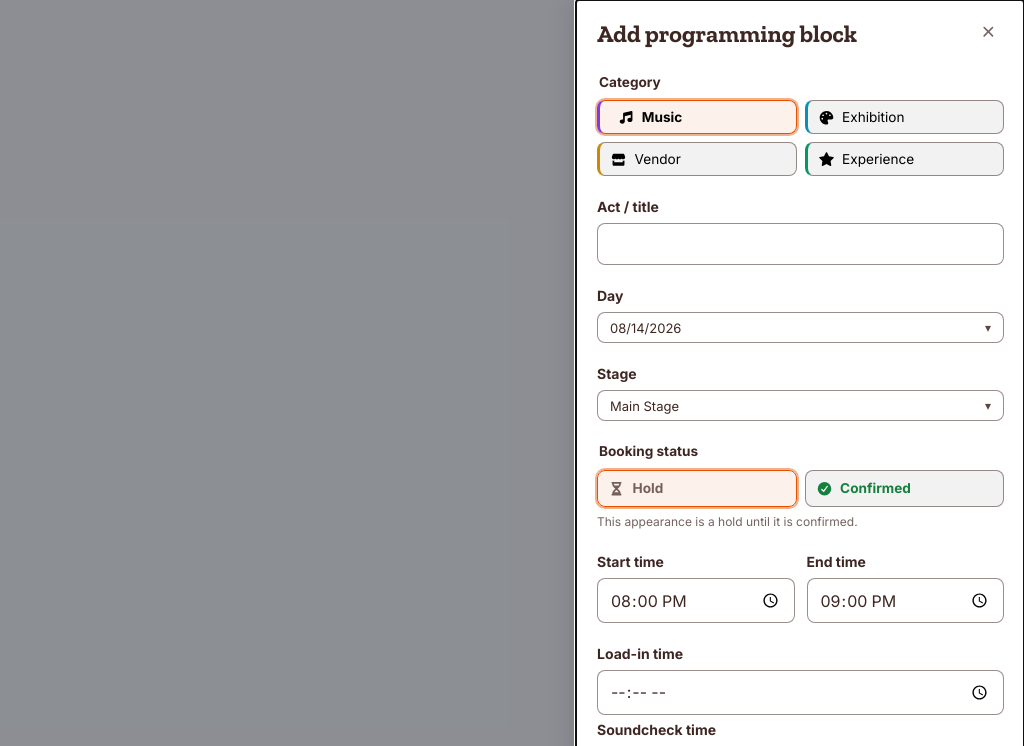
Test case: BlockEditorDrawer › reveals deal hint when settlement is enabled on a non-music block
This screenshot has width=1024, height=746.
Click the button "Vendor": (697,159) [597,142,796,176]
(page scrolled)
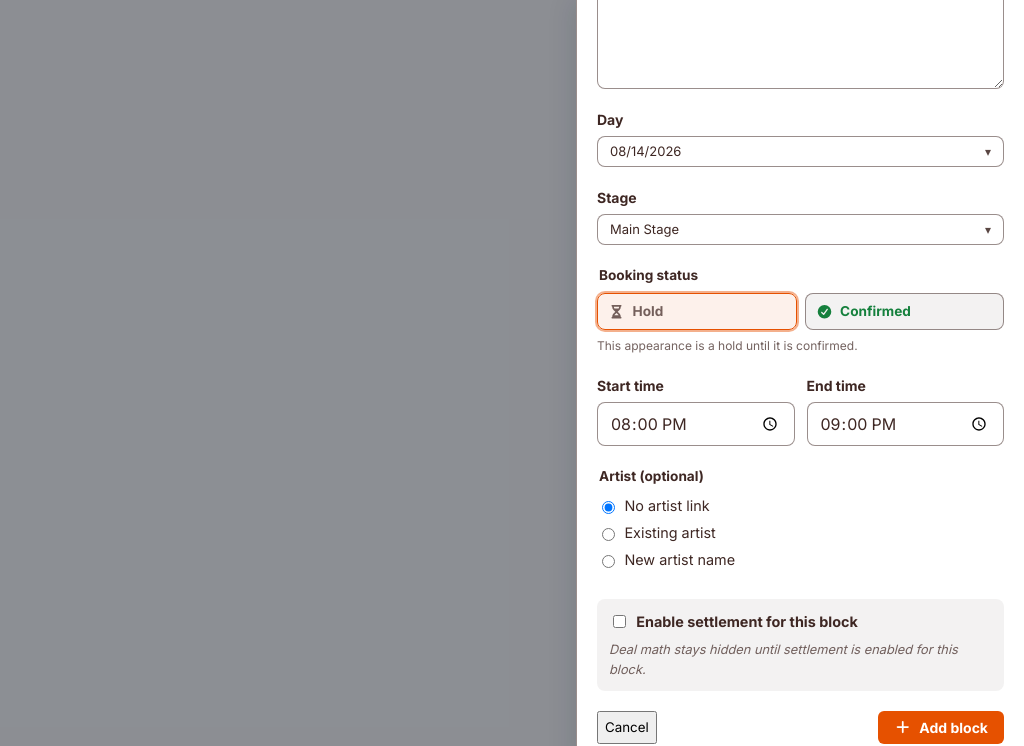
Click the checkbox with test id "block-requires-settlement": (620,622) [613,615,626,628]
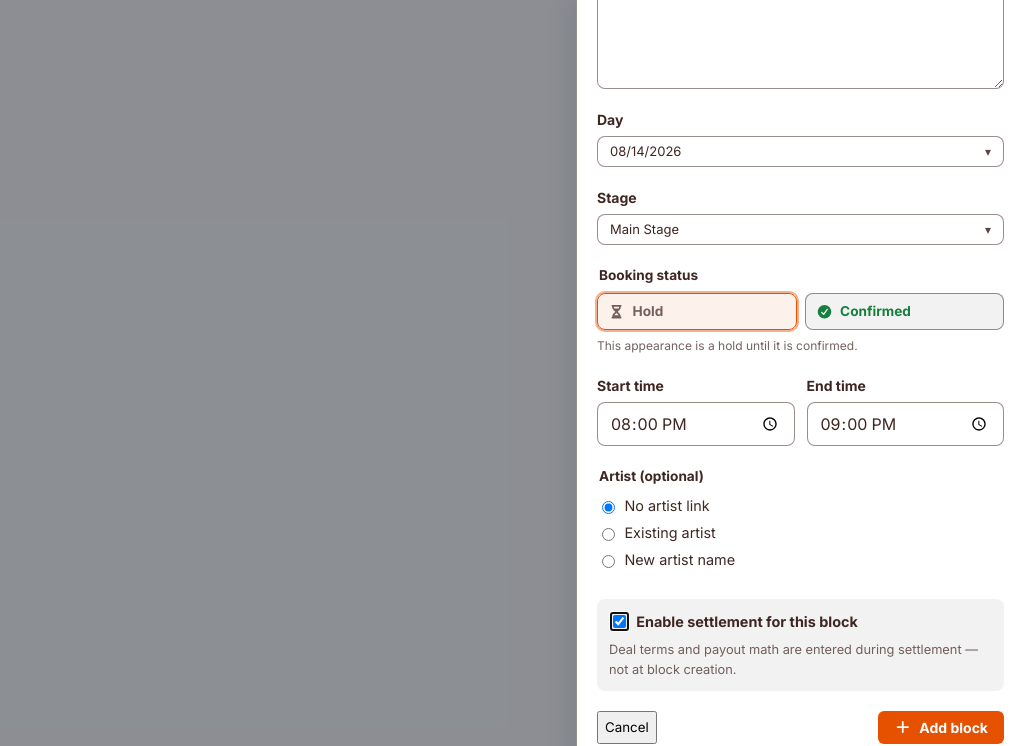
expect the text with test id "block-deal-hint" shows "during settlement": met, box [609,642,978,677]
